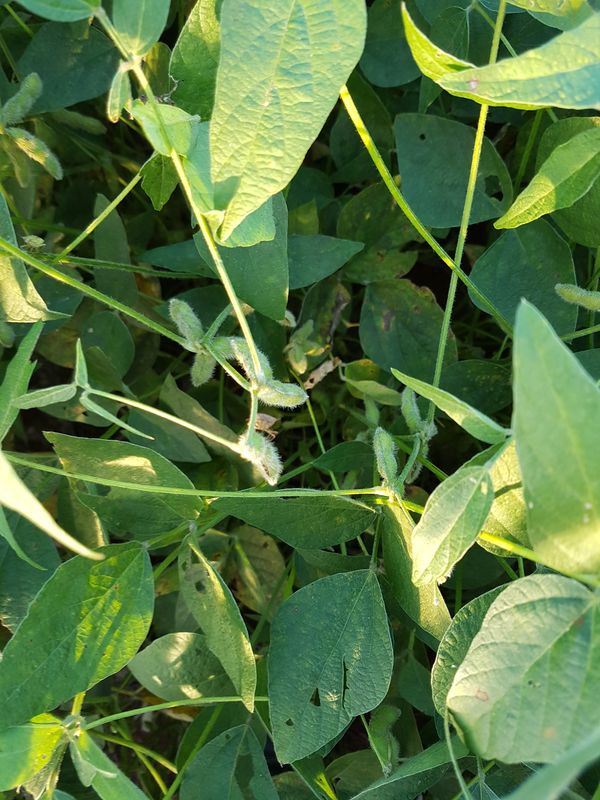Euschistus_heros_adulto: (241, 409, 284, 442)
